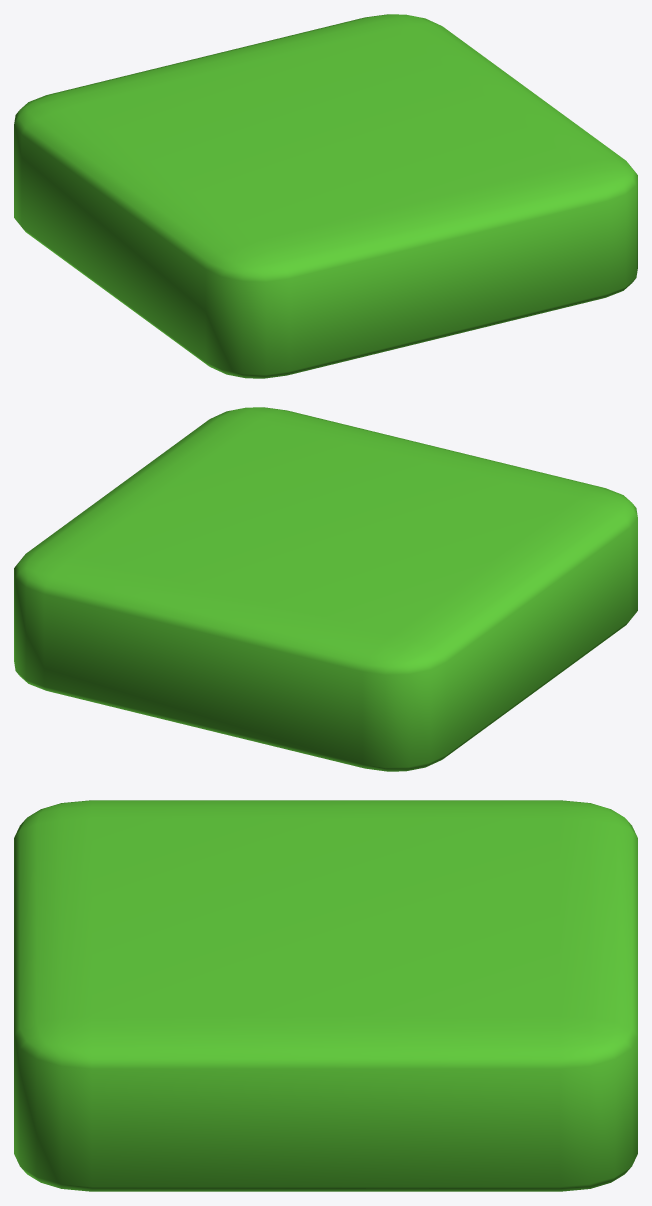
File: FloorTile.fbx
3 views of the same model, one above another, from view 1: azimuth 30°, elevation 25°; view 2: azimuth 150°, elevation 25°; view 3: azimuth 270°, elevation 25° (orthographic). The views are drawn at different scales.
Visible parts, largest first — view 1: FloorTile; view 2: FloorTile; view 3: FloorTile.
Boxes of the visible parts, <box> form: FloorTile: <box>14,14,637,378</box>; FloorTile: <box>14,407,637,771</box>; FloorTile: <box>14,800,637,1191</box>.
Size of the model in its own units: 44.51 by 12.36 by 44.51.
